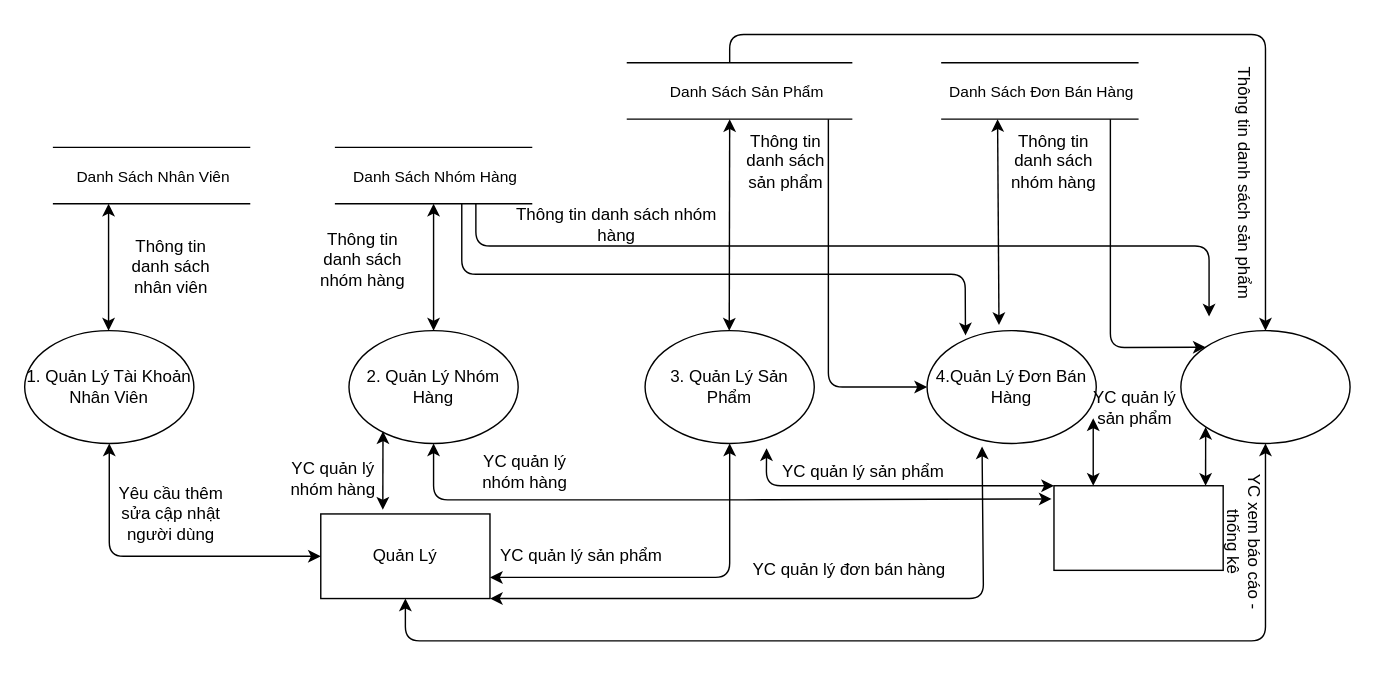
The diagram is 1375 pixels wide and 678 high, and some of its shapes have lost their labels. The shapes that lost their labels are listed below. From the top down, each one's centre as x and y in pixels, then its label:
At (1264,386): "5.Báo Cáo".
At (1138,527): "Nhân Viên".
